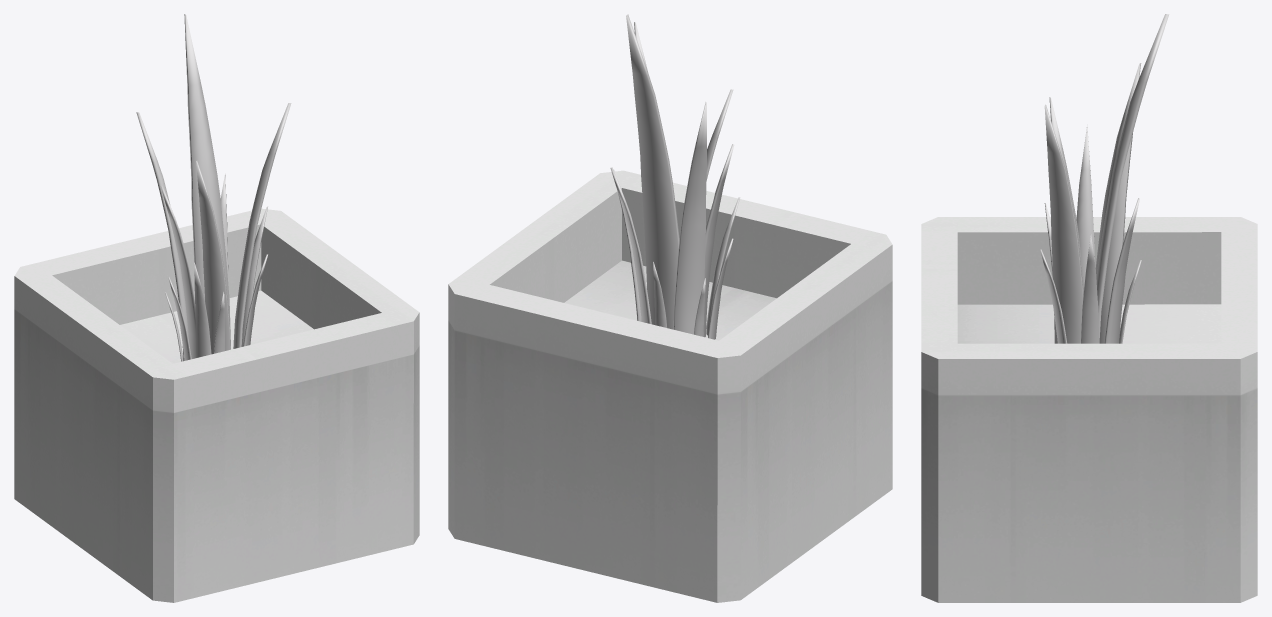
File: pot.fbx
3 renders of one model, left to right at view 1: azimuth 30°, elevation 25°; view 2: azimuth 150°, elevation 25°; view 3: azimuth 270°, elevation 25°, orthographic. The views are drawn at different scales.
Parts seen in each view (by area): view 1: Cube, Plane_012_Plane_013; view 2: Cube, Plane_012_Plane_013; view 3: Cube, Plane_012_Plane_013.
Boxes of the visible parts, x1,y1,x2,y2 form: Cube: [14, 208, 419, 602]; Plane_012_Plane_013: [136, 14, 291, 361]; Cube: [448, 170, 892, 602]; Plane_012_Plane_013: [610, 14, 740, 339]; Cube: [921, 217, 1257, 602]; Plane_012_Plane_013: [1040, 14, 1169, 343].
Size of the model in its own units: 1 by 1.71 by 1.
Materials: 2 (2 with a texture image).
